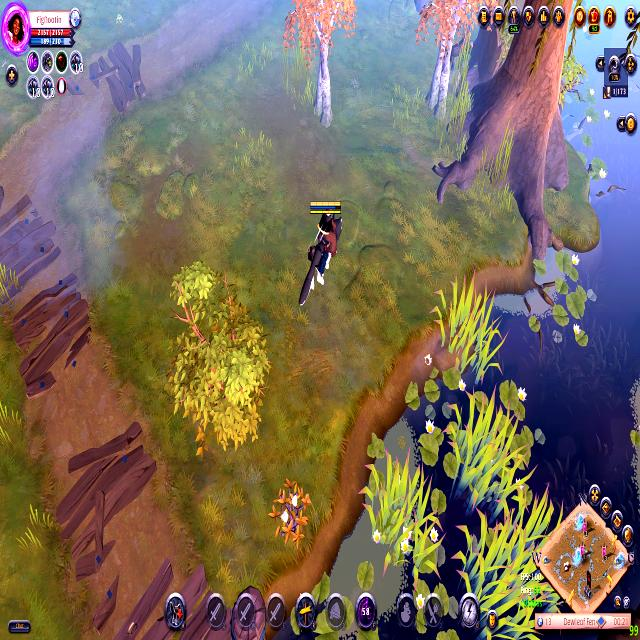red: (296, 194, 350, 314)
wisp caged: (409, 0, 501, 136), (285, 0, 359, 144), (267, 474, 315, 556)
